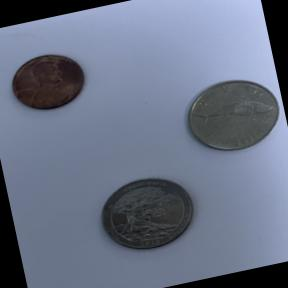Croatia-2Kune-B: (176, 68, 288, 165)
US-1cent-B: (2, 44, 94, 122)
US-25cent-B: (87, 164, 206, 266)
